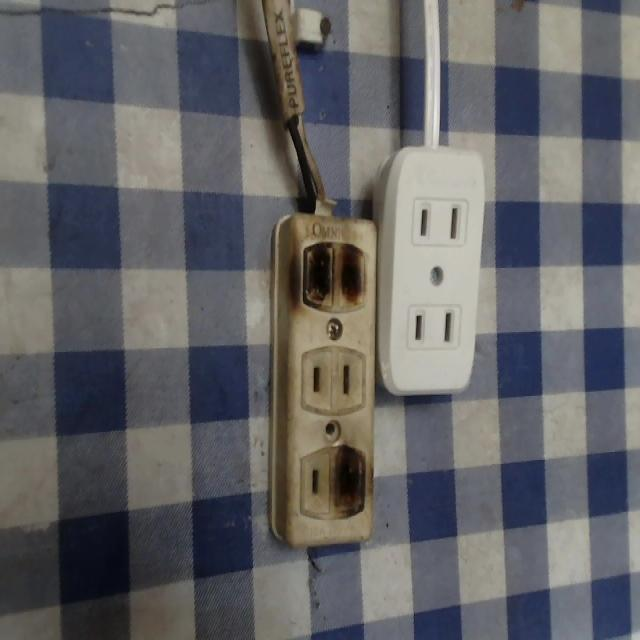-: (295, 234, 371, 318), (332, 442, 369, 518)
